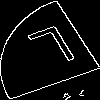L: (25, 25, 85, 77)
